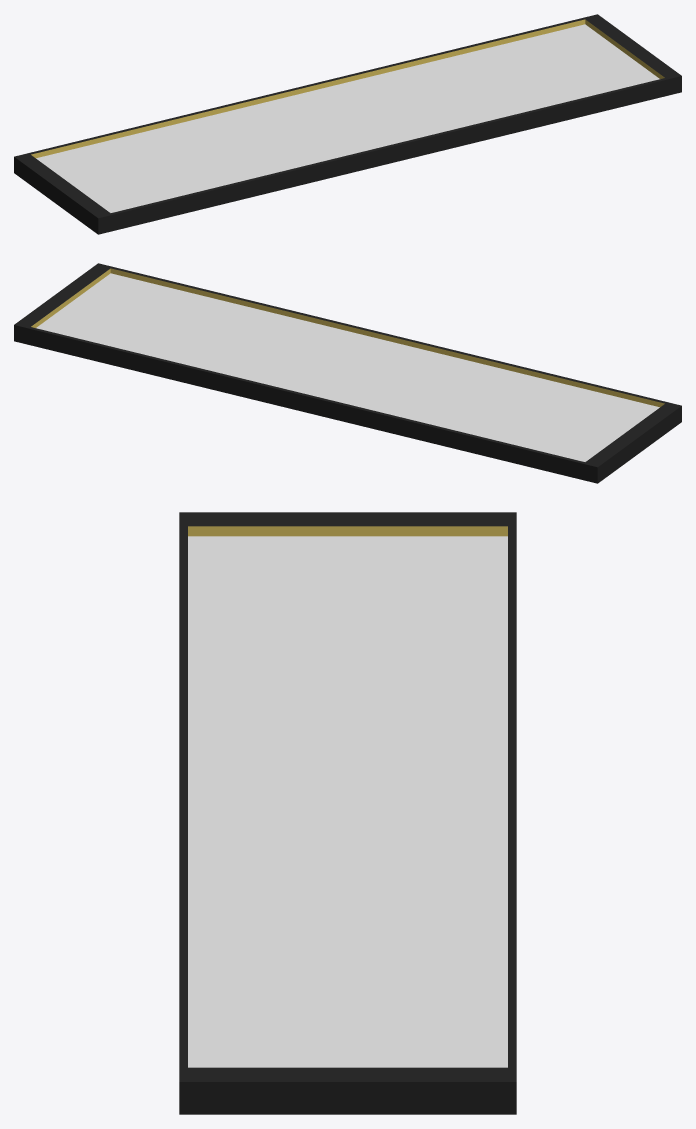
Rendered from TableLight.fbx.
3 renders of one model, top to bottom at view 1: azimuth 30°, elevation 25°; view 2: azimuth 150°, elevation 25°; view 3: azimuth 270°, elevation 25°, orthographic. The views are drawn at different scales.
Visible parts, largest first — view 1: Cube.001, Cube.002; view 2: Cube.001, Cube.002; view 3: Cube.001, Cube.002.
Part boxes in pixels (x1,y1,x2,y2): Cube.001: [14, 14, 681, 226]; Cube.002: [14, 84, 681, 234]; Cube.001: [14, 263, 681, 475]; Cube.002: [14, 333, 681, 483]; Cube.001: [179, 512, 516, 1098]; Cube.002: [179, 1098, 516, 1114].
Size of the model in its own units: 400 by 10.74 by 100.
